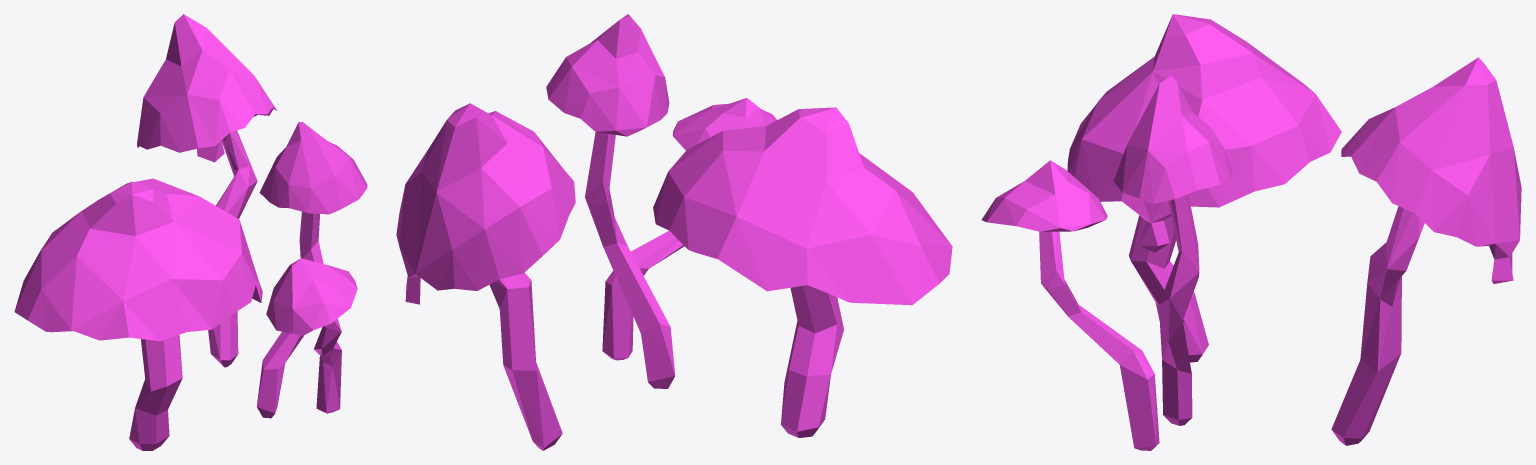
Rendered from SM_Mushroom_Drip_Medium_Cluster_A_Fantasy.fbx.
The picture shows the model from 3 angles, left to right: view 1: azimuth 30°, elevation 25°; view 2: azimuth 150°, elevation 25°; view 3: azimuth 270°, elevation 25°; orthographic projection. The views are drawn at different scales.
Parts seen in each view (by area): view 1: SM_Mushroom_Drip_Medium_Cluster_A_Fantasy; view 2: SM_Mushroom_Drip_Medium_Cluster_A_Fantasy; view 3: SM_Mushroom_Drip_Medium_Cluster_A_Fantasy.
Part boxes in pixels (bbox=[...]): SM_Mushroom_Drip_Medium_Cluster_A_Fantasy: bbox=[14, 14, 367, 450]; SM_Mushroom_Drip_Medium_Cluster_A_Fantasy: bbox=[396, 14, 952, 450]; SM_Mushroom_Drip_Medium_Cluster_A_Fantasy: bbox=[981, 14, 1521, 450].
Size of the model in its own units: 1.16 by 1.04 by 1.29.
